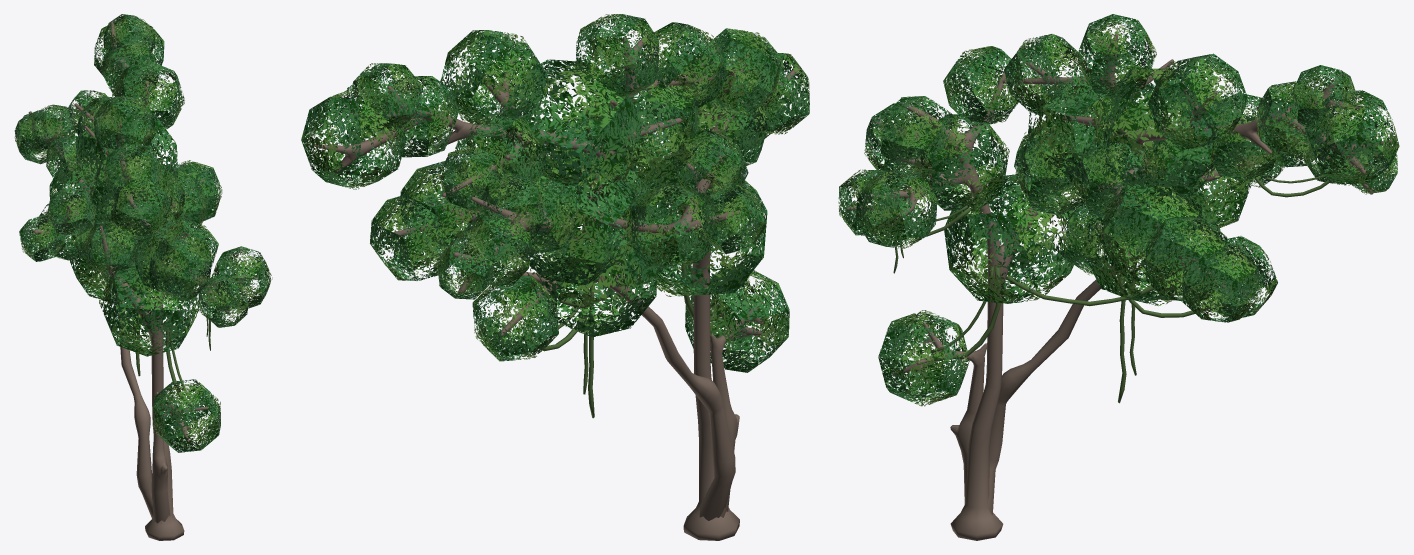
File: jungletree.fbx
3 views of the same model, side by side, from view 1: azimuth 30°, elevation 25°; view 2: azimuth 150°, elevation 25°; view 3: azimuth 270°, elevation 25° (orthographic). The views are drawn at different scales.
Parts seen in each view (by area): view 1: Cube.018, Cube.017, Boom3 Low, Boom1 Low, Cube.004, Cube.022, Cube.007, Cube.005, Cube.009, Cube.028, Cube.006, Cube.024 (+24 smaller); view 2: Boom3 Low, Cube.022, Cube.030, Cube.004, Cube.014, Cube.002, Cube.024, Cube.017, Cube.015, Cube.034, Cube.005, Boom1 Low (+25 smaller); view 3: Cube.018, Cube.022, Boom1 Low, Boom3 Low, Cube.004, Cube.017, Cube.002, Cube.033, Cube.024, Cube.029, Cube.032, Cube.028 (+25 smaller).
Boxes of the visible parts, x1,y1,x2,y2 form: Cube.018: [99, 251, 200, 356]; Cube.017: [152, 379, 220, 452]; Boom3 Low: [28, 21, 204, 519]; Boom1 Low: [99, 193, 262, 540]; Cube.004: [112, 62, 184, 132]; Cube.022: [75, 107, 178, 208]; Cube.007: [110, 179, 170, 240]; Cube.005: [93, 96, 155, 155]; Cube.009: [148, 239, 211, 300]; Cube.028: [212, 246, 272, 309]; Cube.006: [103, 144, 162, 200]; Cube.024: [89, 151, 173, 238]; Boom3 Low: [314, 36, 740, 520]; Cube.022: [488, 59, 643, 214]; Cube.030: [521, 201, 657, 337]; Cube.004: [440, 30, 548, 130]; Cube.014: [515, 156, 632, 285]; Cube.002: [301, 89, 406, 189]; Cube.024: [579, 73, 700, 189]; Cube.017: [685, 266, 789, 372]; Cube.015: [472, 275, 558, 361]; Cube.034: [627, 184, 716, 269]; Cube.005: [575, 14, 659, 97]; Boom1 Low: [683, 39, 799, 540]; Cube.018: [944, 174, 1078, 303]; Cube.022: [1093, 68, 1227, 197]; Boom1 Low: [846, 70, 1055, 540]; Boom3 Low: [987, 34, 1391, 515]; Cube.004: [1148, 53, 1248, 149]; Cube.017: [878, 310, 969, 406]; Cube.002: [1305, 90, 1399, 184]; Cube.033: [1103, 179, 1202, 283]; Cube.024: [1027, 77, 1142, 186]; Cube.029: [914, 114, 1009, 211]; Cube.032: [1145, 216, 1227, 301]; Cube.028: [856, 170, 937, 248].
Size of the model in its own units: 225 by 375 by 361.
